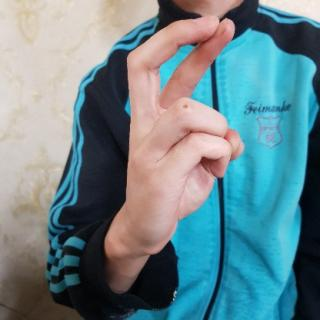ZAY: (119, 10, 246, 256)
